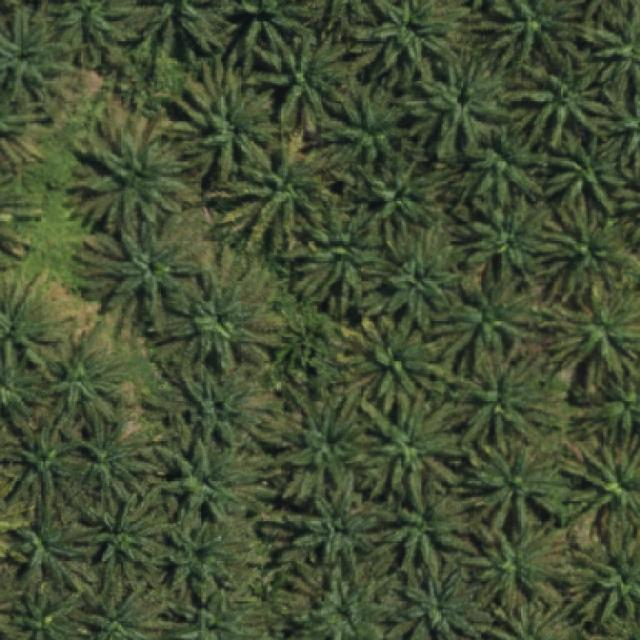Kelapa_Sawit: (68, 101, 189, 239), (212, 129, 341, 256), (166, 54, 288, 188), (258, 383, 382, 508), (152, 262, 282, 380), (350, 388, 464, 514), (74, 220, 200, 334), (447, 339, 567, 455), (288, 201, 390, 322), (339, 309, 446, 423), (405, 51, 512, 164), (144, 368, 290, 450), (148, 436, 282, 524), (432, 264, 540, 373), (458, 517, 577, 615), (246, 20, 357, 125), (506, 48, 616, 150), (459, 438, 570, 537), (9, 492, 105, 606), (332, 150, 443, 248), (362, 221, 462, 328), (77, 492, 183, 592), (372, 481, 476, 582), (534, 198, 629, 307), (59, 414, 163, 512), (318, 75, 417, 176), (286, 482, 382, 582), (151, 506, 240, 612), (3, 416, 92, 518), (41, 324, 128, 428), (452, 123, 548, 214), (457, 196, 549, 286), (540, 130, 631, 218), (272, 314, 352, 384)
